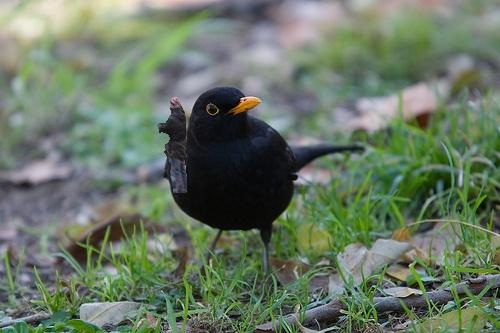tampered: (158, 98, 187, 193)
